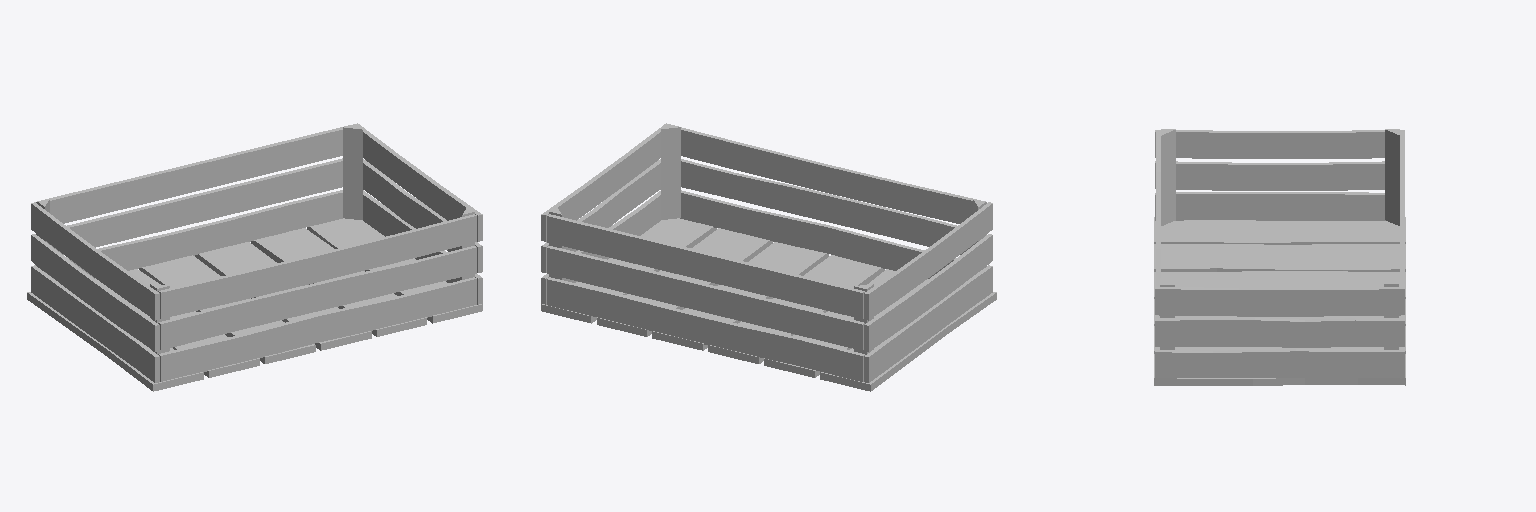
File: Crate.obj
3 views of the same model, side by side, from view 1: azimuth 30°, elevation 25°; view 2: azimuth 150°, elevation 25°; view 3: azimuth 270°, elevation 25° (orthographic).
Parts seen in each view (by area): view 1: Cube.008; view 2: Cube.008; view 3: Cube.008.
Boxes of the visible parts, x1=… form: Cube.008: x1=27, y1=123, x2=482, y2=391; Cube.008: x1=541, y1=123, x2=996, y2=391; Cube.008: x1=1154, y1=129, x2=1405, y2=385.
Size of the model in its own units: 1.41 by 0.4006 by 0.9275.